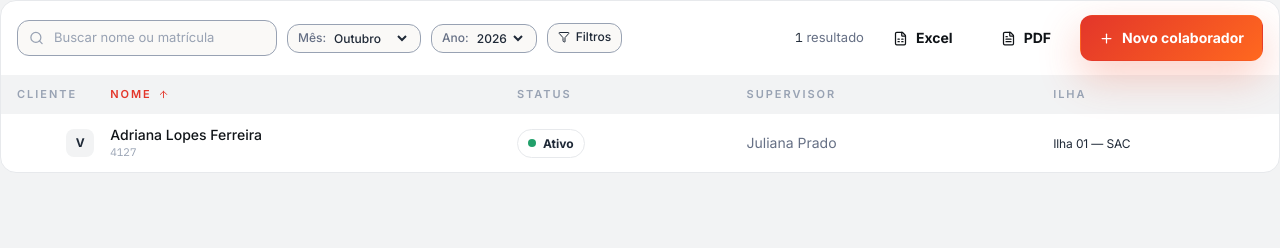
Scenario: Colaboradores › alcança quem saiu em outro ano quando o filtro de ano é "todos"
expect the text "Adriana Lopes Ferreira" is shown: met, box [110,126,262,143]
expect the text "Marcos Vieira Antunes" is not shown: met
Select "todos" in the dropdown labelled "Ano:". click: (499, 38)
box: [473,30,526,46]
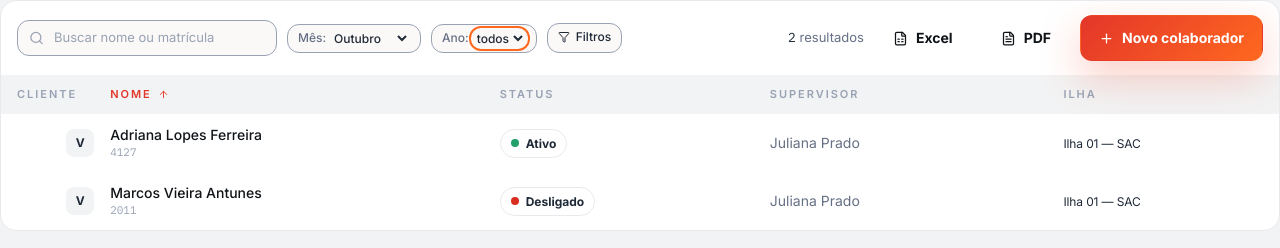
expect the text "Marcos Vieira Antunes" is shown: met, box [110,184,262,201]
